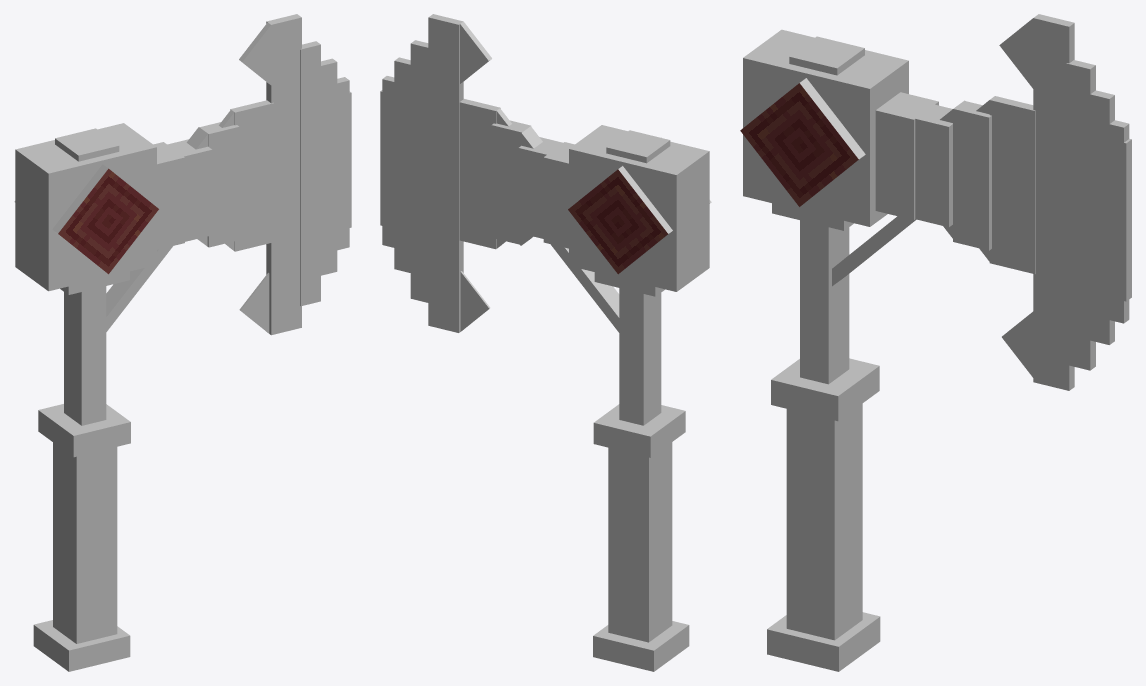
File: Elven axe.obj
The picture shows the model from 3 angles, left to right: view 1: azimuth 30°, elevation 25°; view 2: azimuth 150°, elevation 25°; view 3: azimuth 330°, elevation 25°; orthographic projection. The views are drawn at different scales.
Parts seen in each view (by area): view 1: Base handel, ave haad blade, Base handel grip, ave haad, axe haad blade, axe hade blade; view 2: Base handel, ave haad blade, Base handel grip, ave haad, axe haad blade, axe hade blade; view 3: Base handel, ave haad blade, Base handel grip, ave haad, axe haad blade, axe hade blade.
Boxes of the visible parts, x1,y1,x2,y2 form: Base handel: [14, 123, 158, 671]; ave haad blade: [186, 14, 351, 335]; Base handel grip: [55, 128, 172, 425]; ave haad: [153, 139, 212, 249]; axe haad blade: [239, 22, 298, 84]; axe hade blade: [239, 272, 269, 333]; Base handel: [568, 125, 711, 671]; ave haad blade: [380, 14, 542, 332]; Base handel grip: [551, 130, 670, 425]; ave haad: [518, 137, 574, 248]; axe haad blade: [460, 21, 491, 83]; axe hade blade: [460, 271, 490, 331]; Base handel: [740, 29, 908, 671]; ave haad blade: [940, 14, 1131, 390]; Base handel grip: [772, 36, 916, 384]; ave haad: [875, 92, 952, 227]; axe haad blade: [999, 18, 1066, 88]; axe hade blade: [1002, 311, 1033, 377].
Bounding box in the file's own units: 0.4812 × 0.855 × 0.1156.
